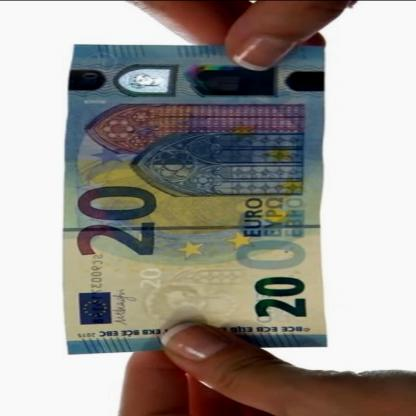euro_banknote: (40, 67, 350, 332)
